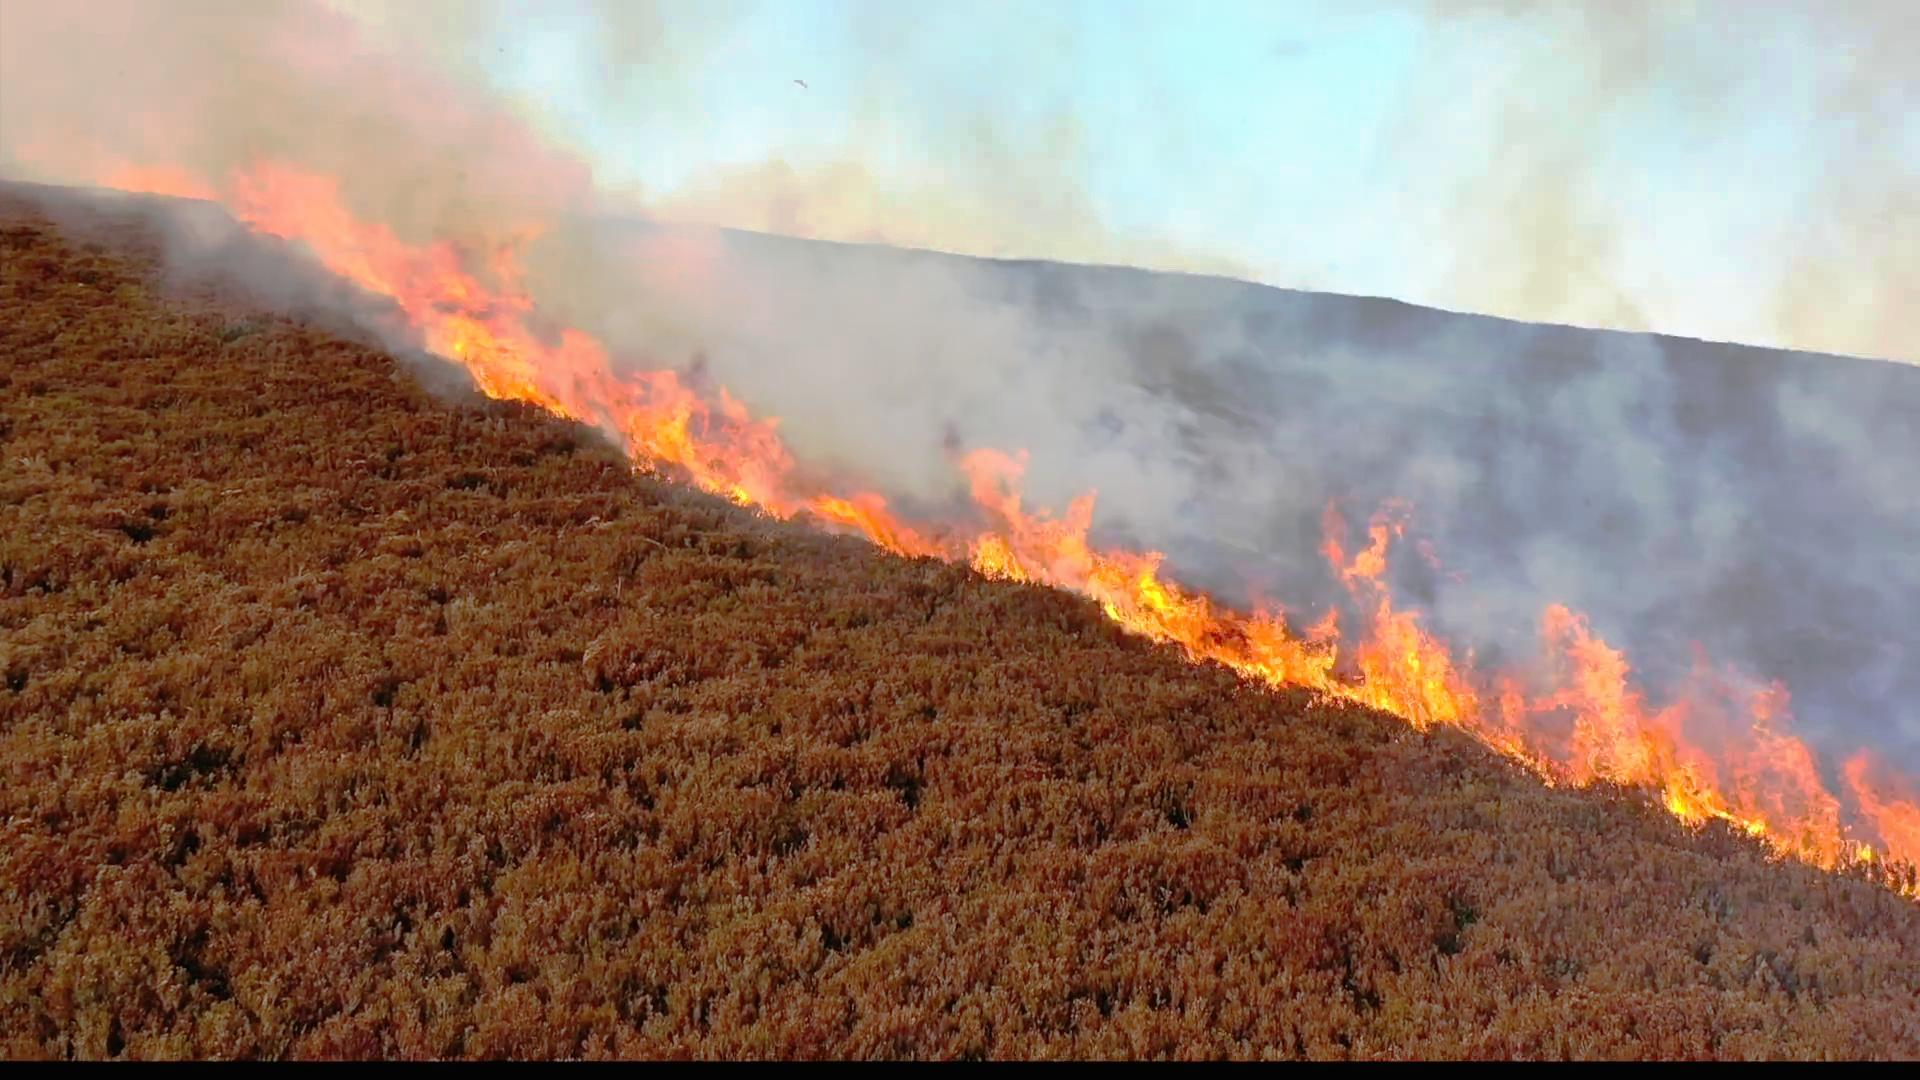fire: (1539, 596, 1920, 907), (944, 442, 1211, 666), (1321, 493, 1462, 738), (588, 381, 790, 525), (1213, 576, 1307, 684)
smoke: (1484, 261, 1920, 629), (980, 303, 1349, 521)
